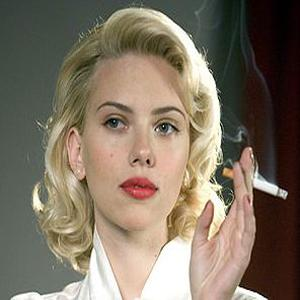cigarette: (221, 164, 289, 200)
